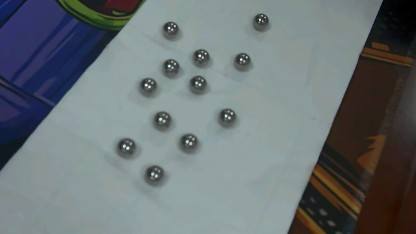ironball: (186, 72, 209, 95), (177, 130, 199, 154), (114, 135, 137, 156), (217, 106, 238, 128), (142, 164, 165, 184), (161, 17, 180, 41), (136, 76, 159, 95), (161, 57, 180, 78), (232, 50, 251, 70), (152, 109, 172, 128), (192, 47, 212, 66), (250, 12, 269, 29)
